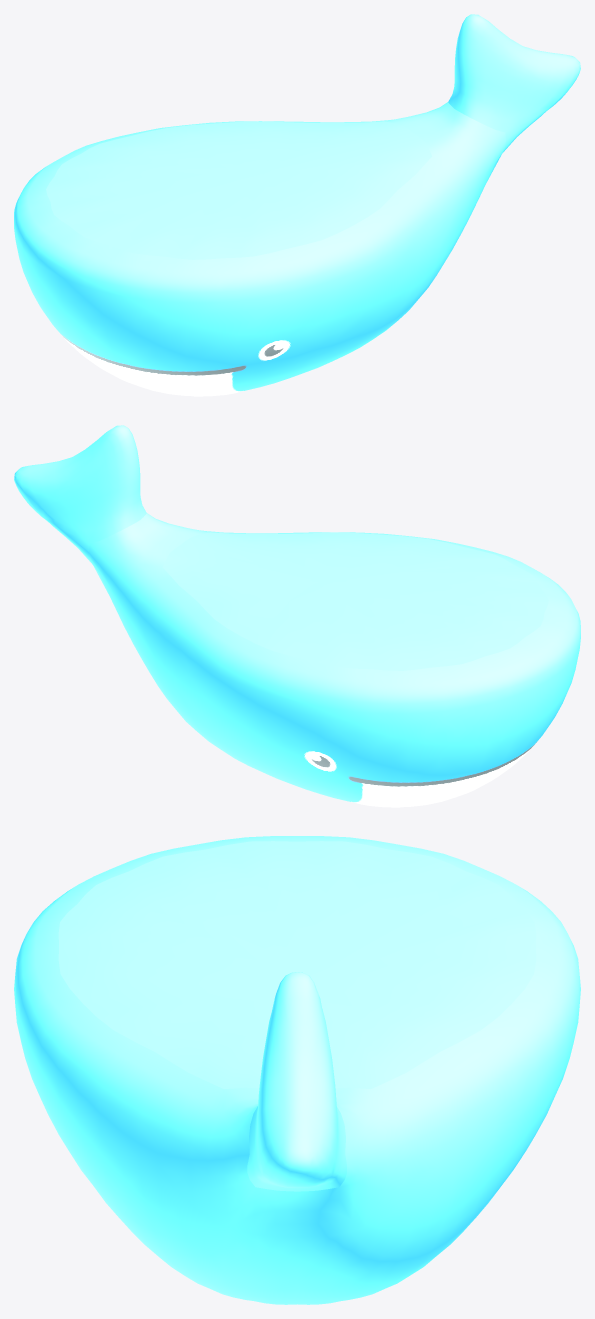
File: whale_draco.glb
3 renders of one model, top to bottom at view 1: azimuth 30°, elevation 25°; view 2: azimuth 150°, elevation 25°; view 3: azimuth 270°, elevation 25°, orthographic. The views are drawn at different scales.
Parts seen in each view (by area): view 1: Sphere; view 2: Sphere; view 3: Sphere.
Boxes of the visible parts, bbox=[...] form: Sphere: bbox=[14, 14, 580, 396]; Sphere: bbox=[14, 425, 580, 807]; Sphere: bbox=[14, 836, 580, 1304].
Size of the model in its own units: 8.83 by 4.72 by 5.21.
